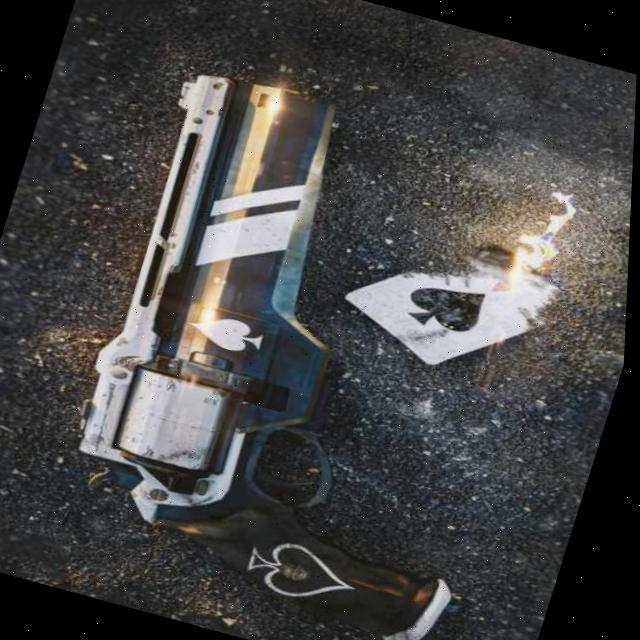gun: (46, 68, 592, 640)
